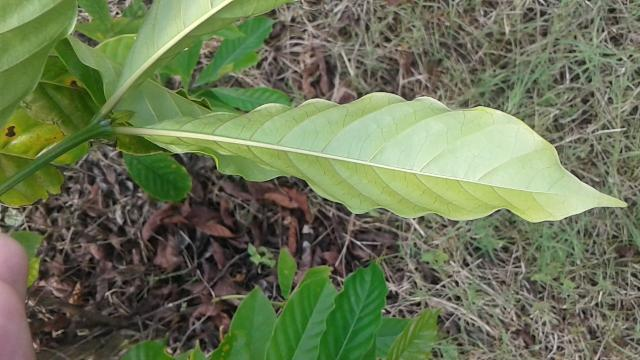healthy: (140, 88, 634, 224)
